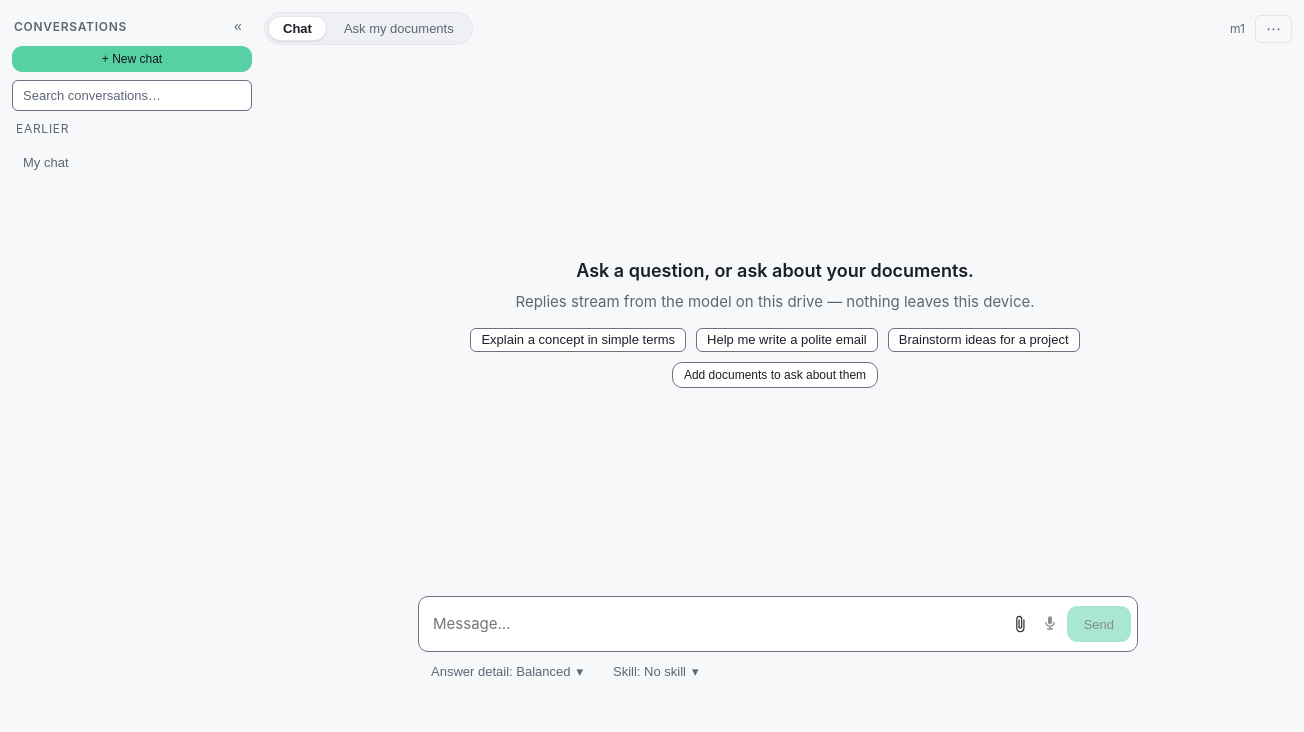
Scenario: ChatScreen — first-selection skill info card (#46) › the FIRST pick shows the info card and persists the skill id as seen
The image size is (1304, 732).
Click the button "My chat" at [116, 162], box [12,142,221,182]
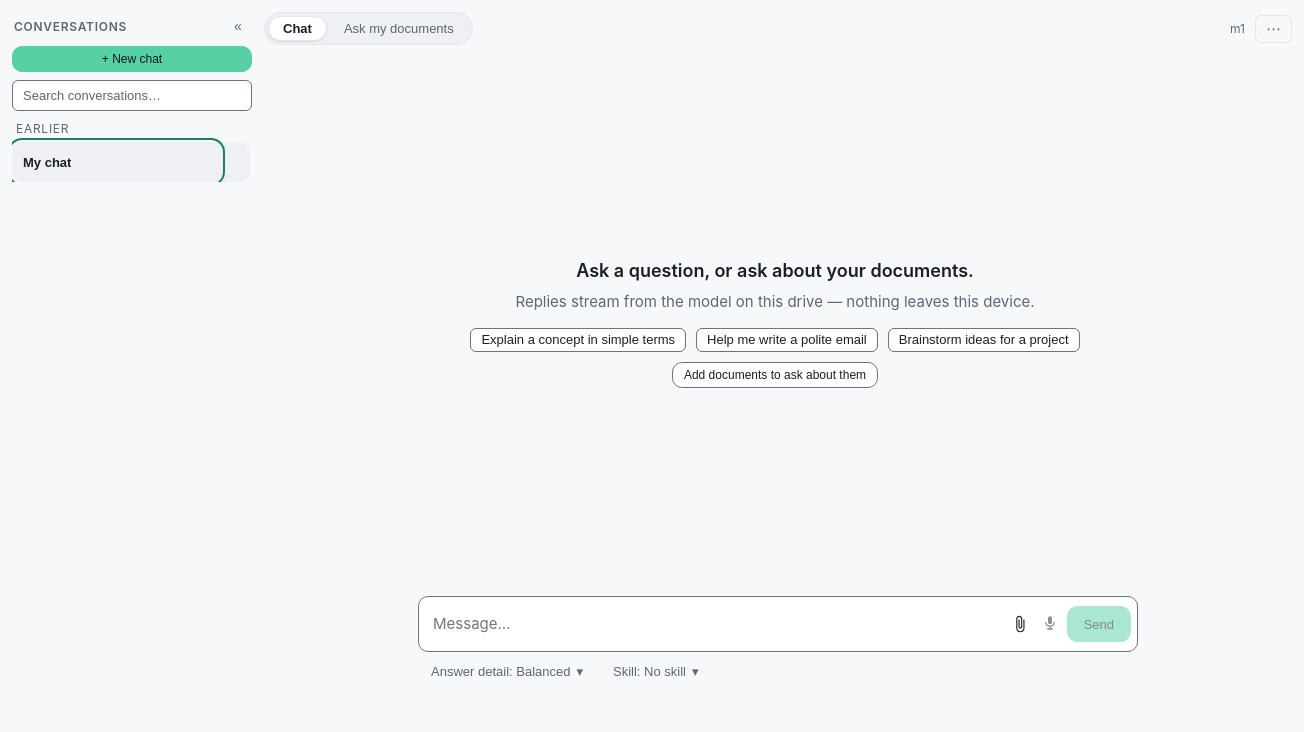
Click the button "Skill: No skill ▾" at [656, 671], box [604,659,708,683]
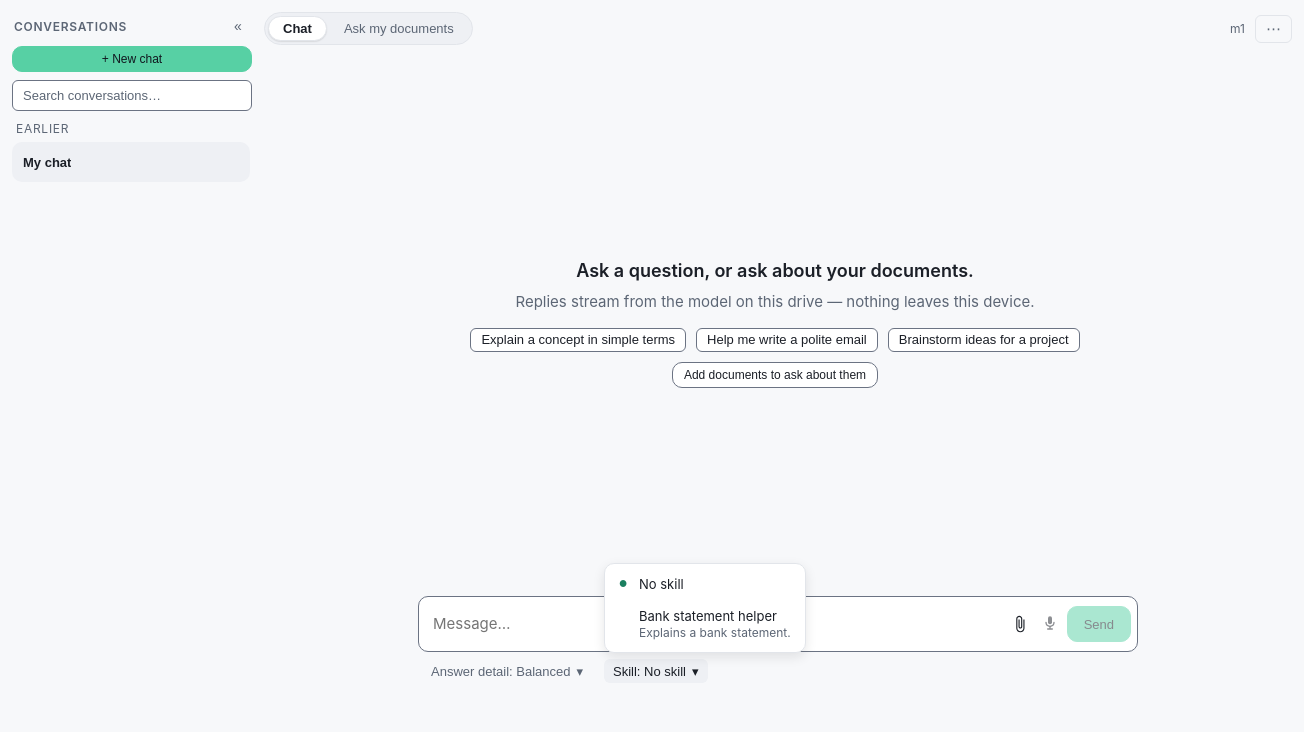
Click the menu item "Bank statement helper Explains a bank statement." at [715, 624], box [639,608,791,640]
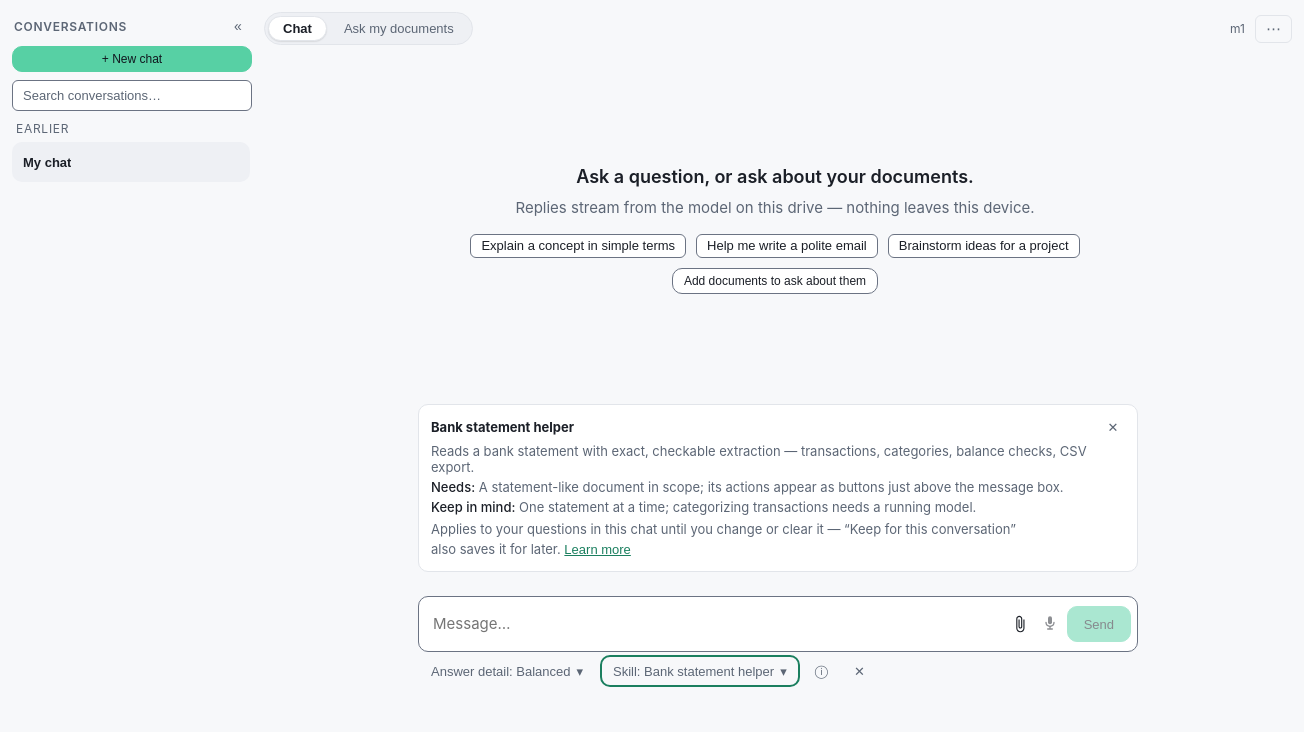
Check: the element named "about “bank statement helper”" is shown, box [418,404,1138,572]
Check: the text "exact, checkable extraction" is shown, box [431,443,1087,475]
